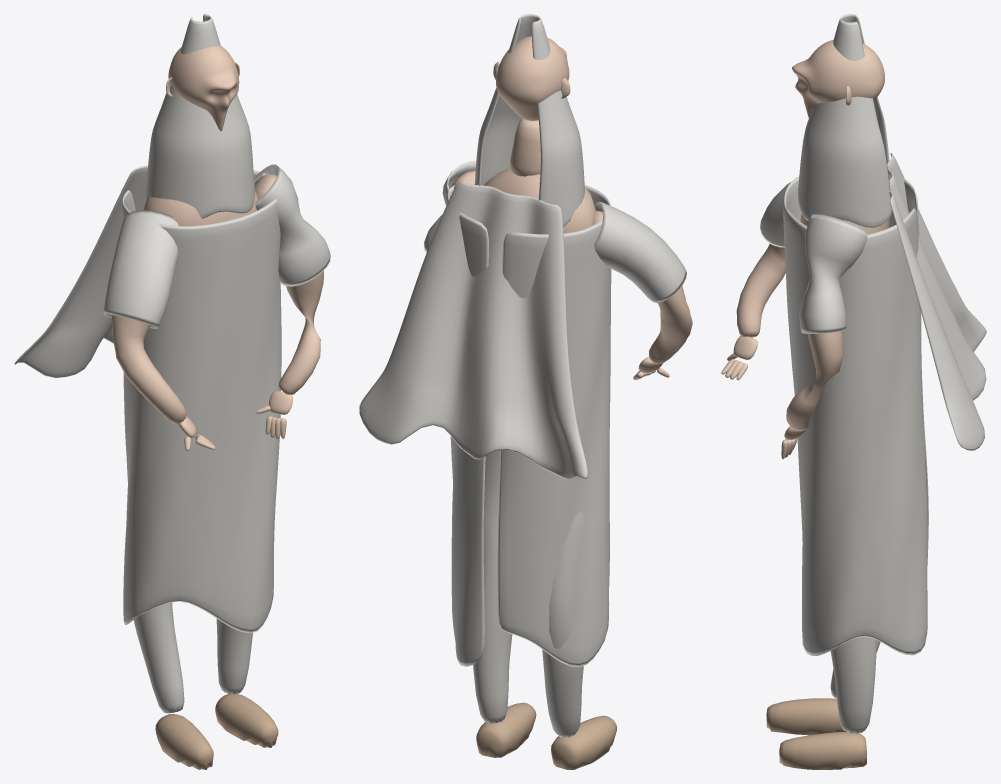
File: basilica_mystic.glb
3 views of the same model, side by side, from view 1: azimuth 30°, elevation 25°; view 2: azimuth 150°, elevation 25°; view 3: azimuth 270°, elevation 25° (orthographic). The views are drawn at different scales.
Parts seen in each view (by area): view 1: Robe, Hood, Cape, SleeveR, SleeveL, Head, LegR, ArmR, ArmL, BootL, BootR, LegL (+1 smaller); view 2: Cape, Robe, Hood, LegL, LegR, SleeveR, Head, BootR, BootL, ArmR, Body, Neck (+1 smaller); view 3: Robe, Hood, Cape, SleeveL, Head, LegL, BootL, ArmL, ArmR, BootR, SleeveR, Palm-1.
Part boxes in pixels (bbox=[...]): Robe: bbox=[121, 170, 281, 633]; Hood: bbox=[145, 14, 254, 218]; Cape: bbox=[14, 165, 147, 378]; SleeveR: bbox=[103, 210, 178, 328]; SleeveL: bbox=[254, 164, 330, 286]; Head: bbox=[168, 45, 239, 131]; LegR: bbox=[126, 478, 184, 713]; ArmR: bbox=[111, 315, 186, 423]; ArmL: bbox=[254, 174, 323, 394]; BootL: bbox=[215, 693, 278, 747]; BootR: bbox=[155, 714, 213, 769]; LegL: bbox=[216, 618, 252, 694]; Cape: bbox=[359, 181, 588, 479]; Robe: bbox=[446, 185, 611, 667]; Hood: bbox=[474, 14, 584, 227]; LegL: bbox=[473, 450, 512, 723]; LegR: bbox=[542, 511, 583, 738]; SleeveR: bbox=[593, 200, 686, 302]; Head: bbox=[496, 36, 569, 120]; BootR: bbox=[551, 715, 616, 769]; BootL: bbox=[476, 702, 536, 757]; ArmR: bbox=[592, 210, 692, 363]; Body: bbox=[484, 168, 596, 233]; Neck: bbox=[510, 118, 540, 176]; Robe: bbox=[783, 176, 928, 655]; Hood: bbox=[798, 14, 891, 228]; Cape: bbox=[887, 153, 986, 450]; SleeveL: bbox=[799, 214, 869, 333]; Head: bbox=[792, 39, 884, 119]; LegL: bbox=[830, 636, 876, 733]; BootL: bbox=[779, 732, 866, 769]; ArmL: bbox=[786, 331, 844, 431]; ArmR: bbox=[736, 243, 785, 337]; BootR: bbox=[766, 698, 845, 735]; SleeveR: bbox=[760, 182, 790, 247]; Palm-1: bbox=[733, 336, 757, 359].
Bounding box in the file's own units: 0.6621 × 1.92 × 0.6355.
